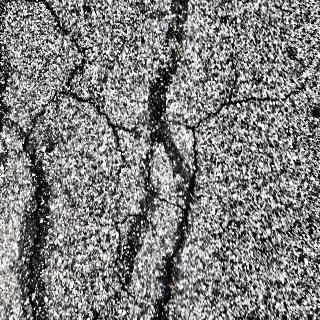alligator-crack: (90, 0, 202, 314)
crack: (0, 0, 90, 318), (212, 59, 306, 126)
